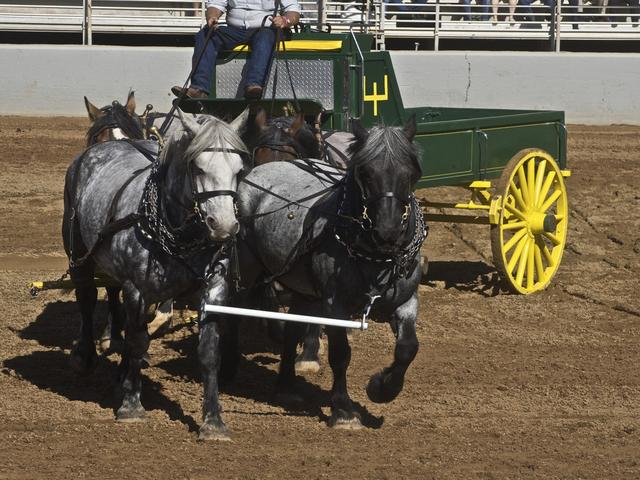horse: (210, 113, 455, 430), (33, 88, 256, 368)
